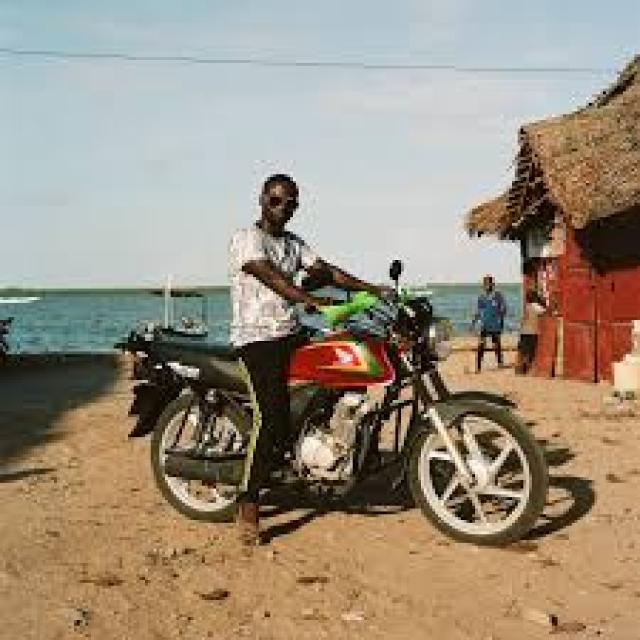bodaboda: (89, 237, 589, 560)
